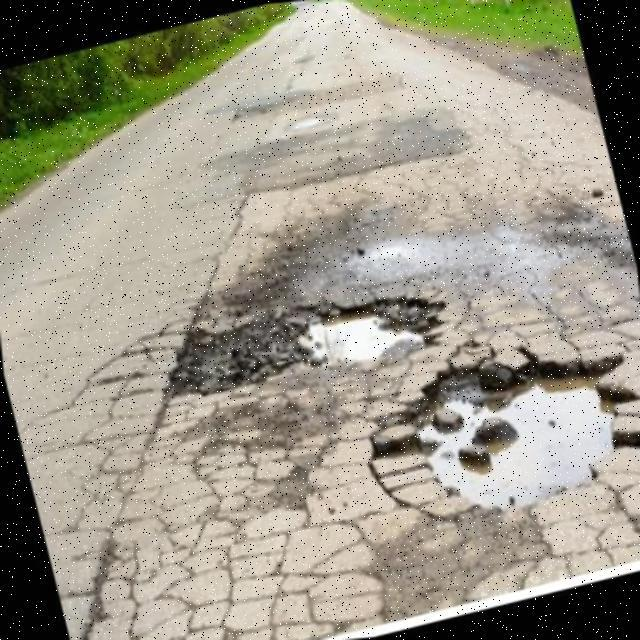Pothole: (373, 354, 640, 519), (161, 294, 449, 399), (229, 101, 272, 121)
